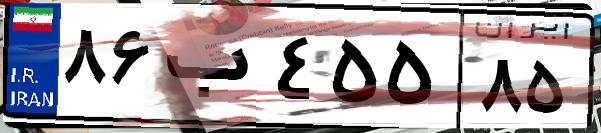4: (270, 28, 330, 110)
5: (385, 28, 445, 110), (330, 28, 385, 110), (525, 38, 570, 115)
6: (110, 28, 158, 98)
8: (57, 26, 110, 100), (475, 38, 525, 113)
ب: (158, 20, 270, 120)
